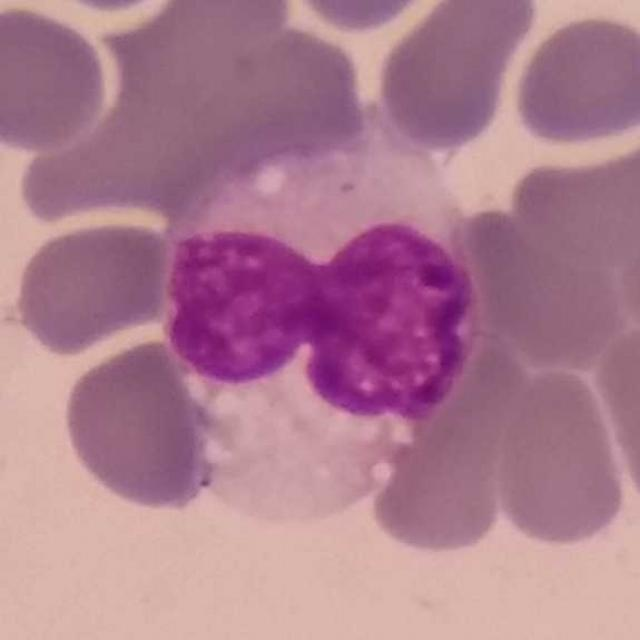Monocyte: (164, 116, 488, 534)
Platelets: (45, 0, 179, 16)
RBC: (448, 193, 630, 376), (367, 354, 519, 558), (58, 335, 219, 514), (186, 23, 374, 176), (488, 358, 631, 551), (372, 0, 540, 155), (10, 216, 176, 358), (505, 128, 640, 280), (507, 8, 640, 151), (0, 1, 112, 154), (591, 314, 640, 521), (277, 0, 453, 35), (36, 0, 182, 16)
